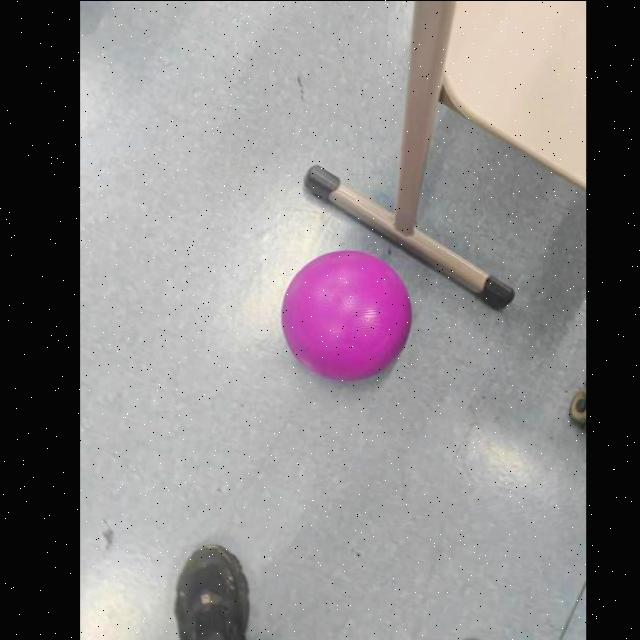P: (277, 248, 411, 386)
